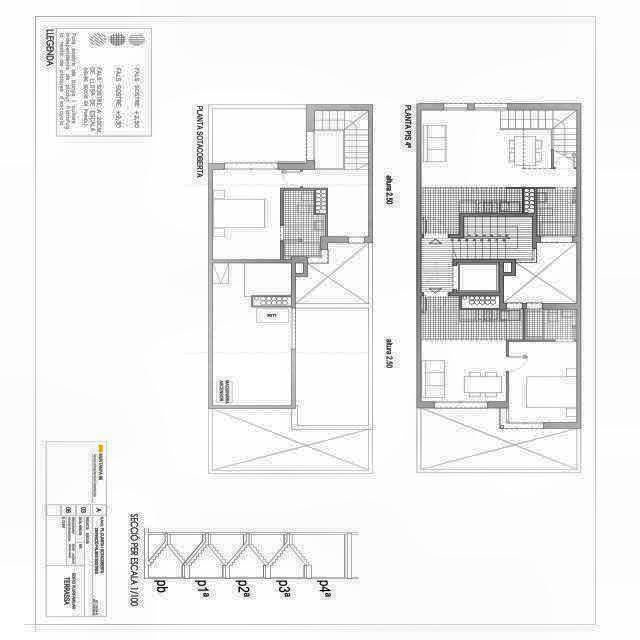room: (421, 110, 577, 234), (212, 263, 303, 406), (421, 296, 523, 402), (302, 111, 369, 237), (213, 170, 301, 260), (508, 341, 577, 422), (421, 238, 512, 293), (504, 242, 577, 303), (283, 190, 325, 260), (536, 189, 577, 236), (525, 309, 577, 340)
